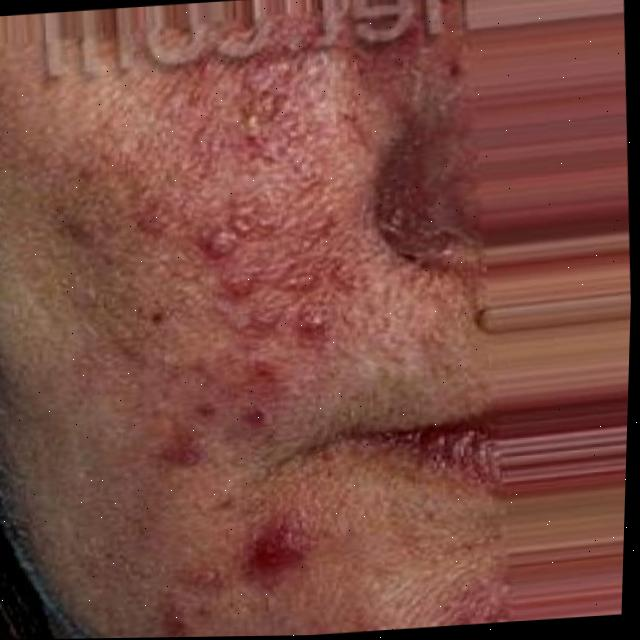Rosacea: (70, 45, 361, 488)
